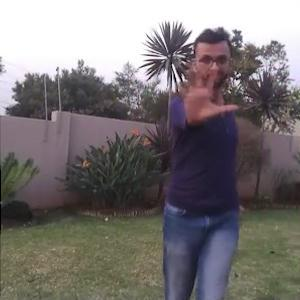follow_hand: (171, 48, 241, 126)
